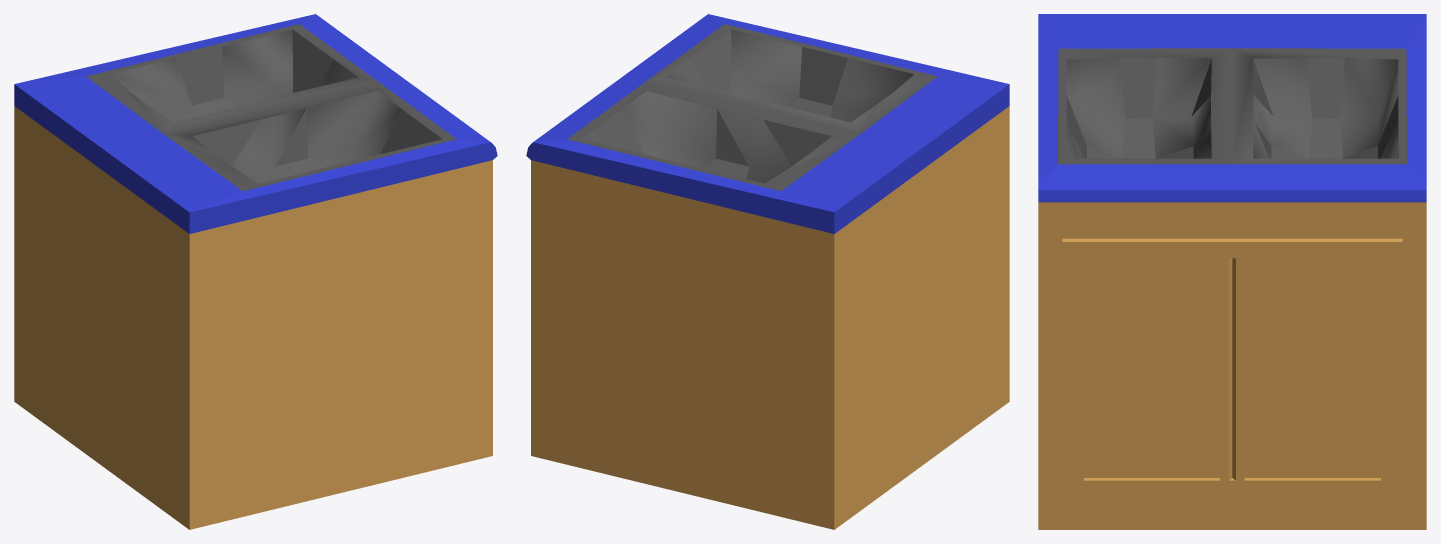
Rendered from counter_sink.glb.
The picture shows the model from 3 angles, left to right: view 1: azimuth 30°, elevation 25°; view 2: azimuth 150°, elevation 25°; view 3: azimuth 270°, elevation 25°; orthographic projection. The views are drawn at different scales.
Parts seen in each view (by area): view 1: Cube; view 2: Cube; view 3: Cube.
Part boxes in pixels (left/top/right/bottom): Cube: left=14, top=14, right=497, bottom=529; Cube: left=526, top=14, right=1009, bottom=529; Cube: left=1038, top=14, right=1426, bottom=529.
Size of the model in its own units: 3.05 by 2.99 by 2.99.
